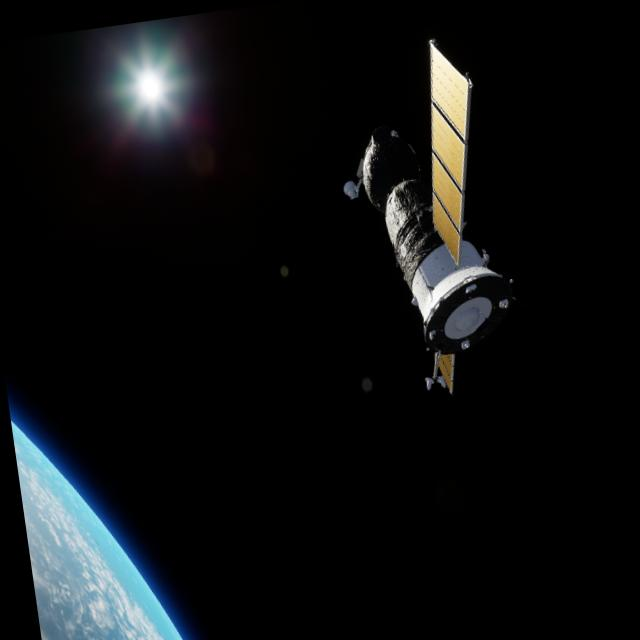Satellites revolving around earth: (322, 28, 531, 409)
